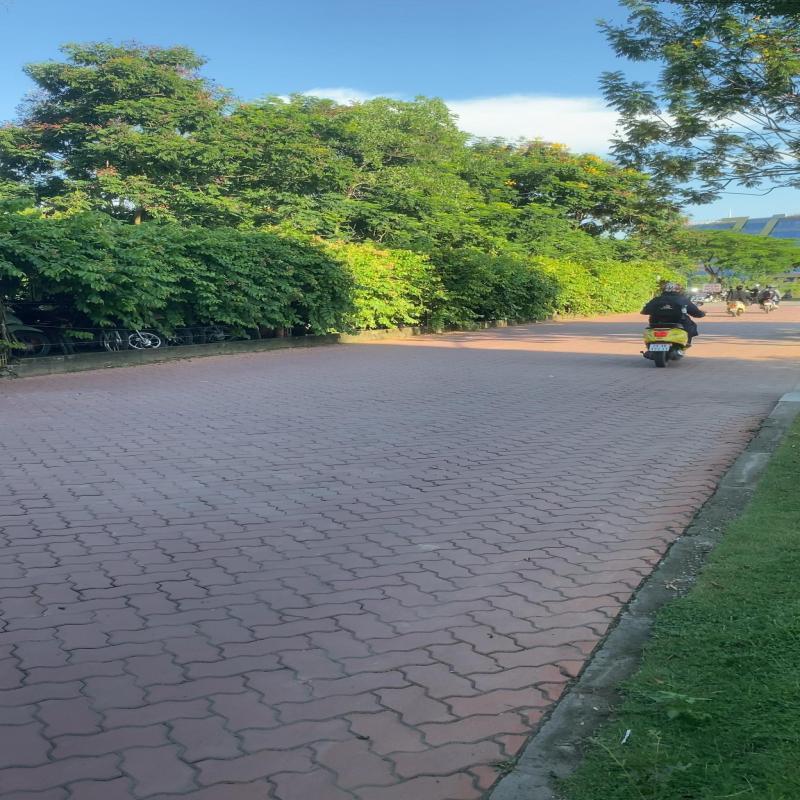helmet: (662, 282, 685, 294)
licenseplate: (648, 344, 670, 351)
motorcyclist: (640, 282, 706, 368)
nohelmet: (736, 285, 743, 290)
